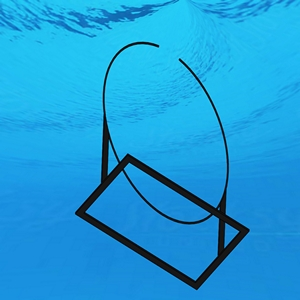circle: (73, 41, 251, 293)
